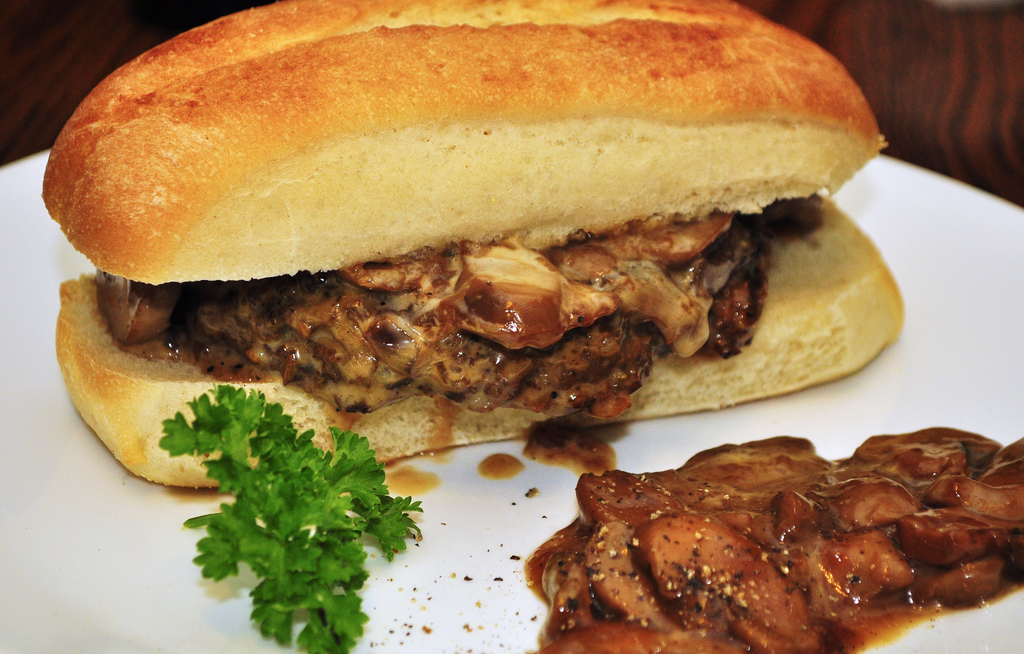Hamburger: (41, 0, 904, 486)
